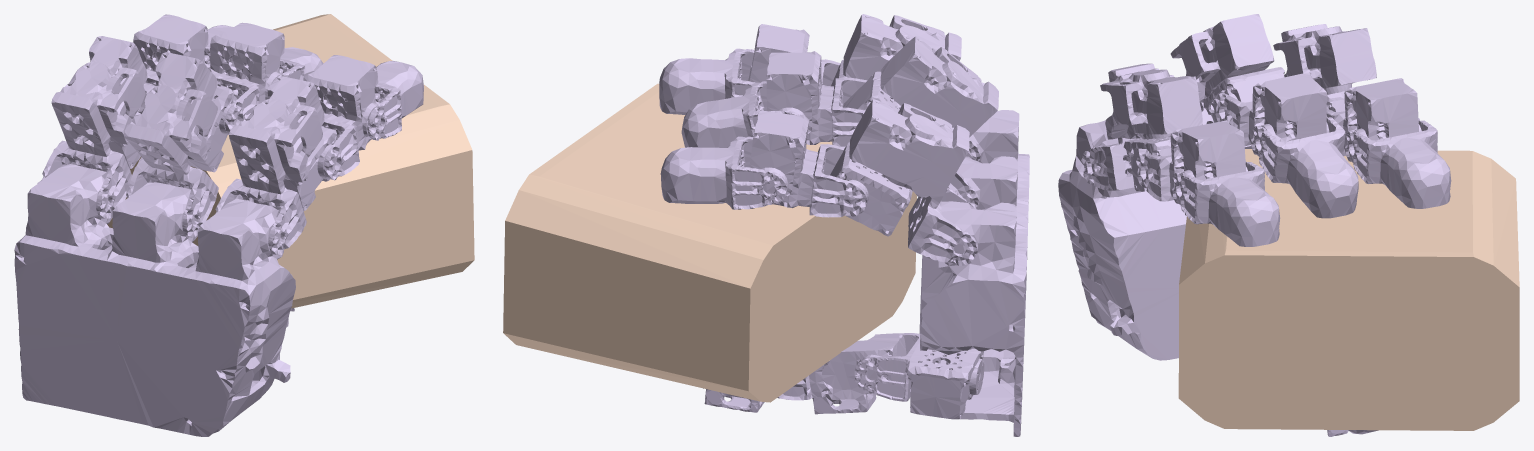
The model's file is b8ed9abe2551a6-final.glb.
The picture shows the model from 3 angles, left to right: view 1: azimuth 30°, elevation 25°; view 2: azimuth 150°, elevation 25°; view 3: azimuth 270°, elevation 25°; orthographic projection.
Parts seen in each view (by area): view 1: LEAP_hand, world; view 2: LEAP_hand, world; view 3: world, LEAP_hand.
Boxes of the visible parts, <box> form: LEAP_hand: <box>14,14,423,436</box>; world: <box>107,14,474,308</box>; LEAP_hand: <box>659,14,1029,436</box>; world: <box>503,83,916,402</box>; world: <box>1178,149,1519,430</box>; LEAP_hand: <box>1058,14,1451,436</box>.
Size of the model in its own units: 0.2118 by 0.1708 by 0.2053.
